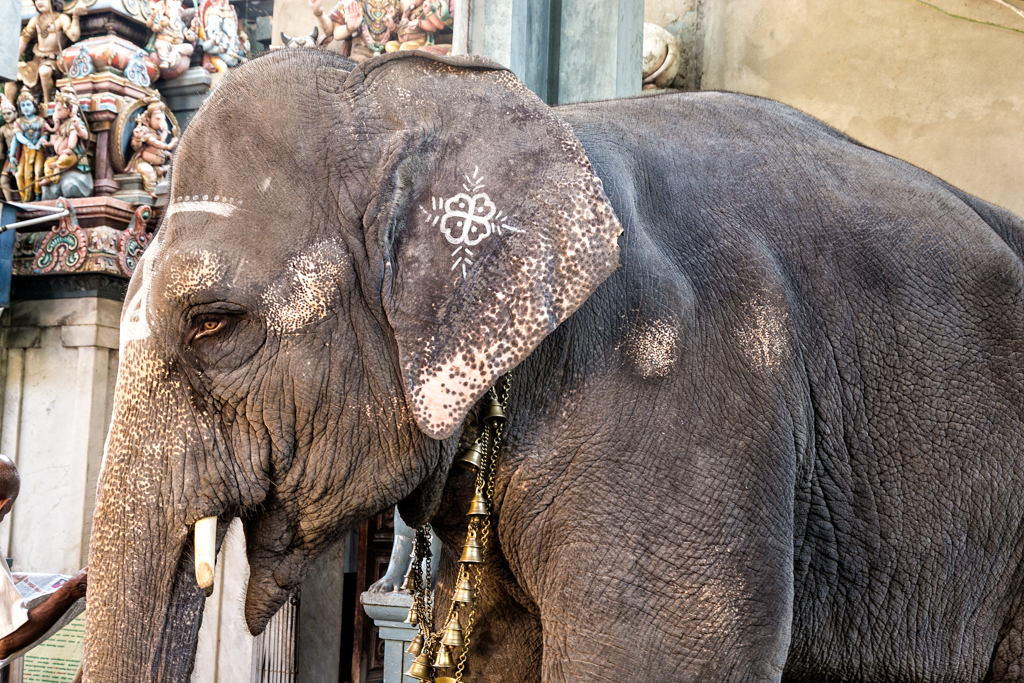Indian Elephant: (62, 42, 1021, 683)
